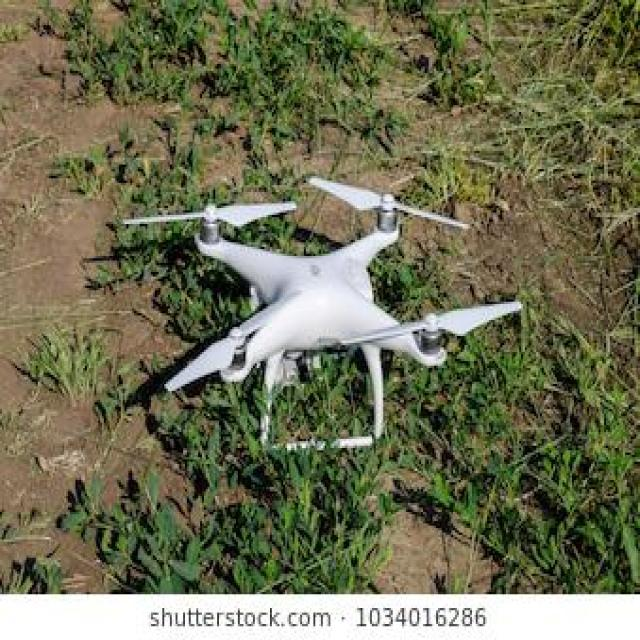drone: (112, 136, 526, 511)
